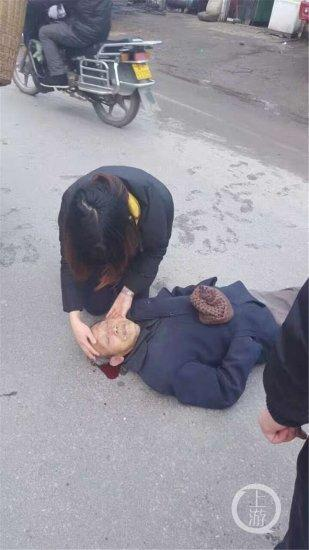Fall-Detected: (77, 270, 291, 405)
